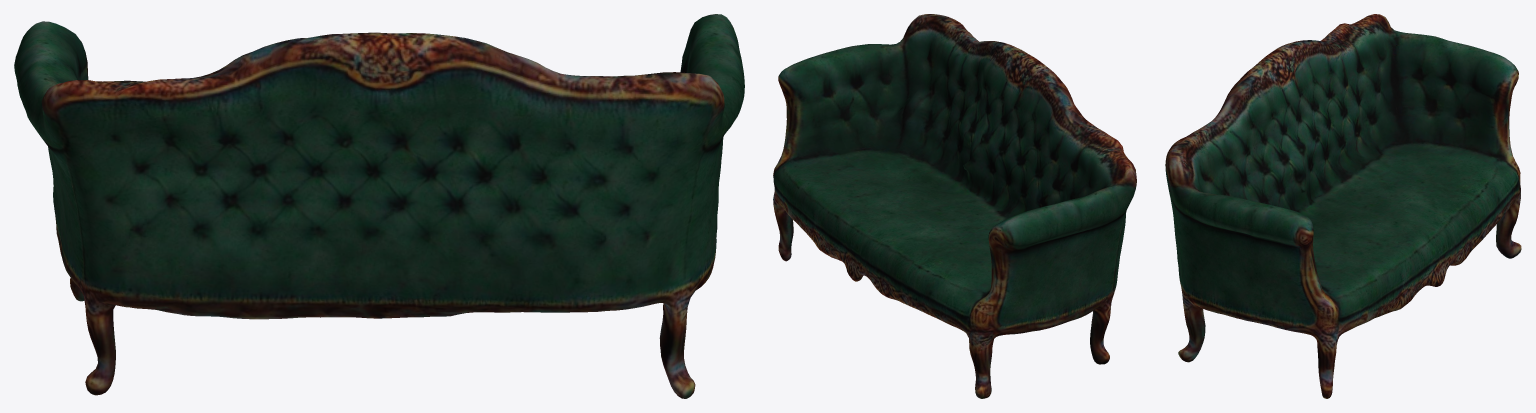
The model's file is luxury-sofa.glb.
3 views of the same model, side by side, from view 1: azimuth 30°, elevation 25°; view 2: azimuth 150°, elevation 25°; view 3: azimuth 270°, elevation 25° (orthographic). The views are drawn at different scales.
Parts seen in each view (by area): view 1: Object_4; view 2: Object_4; view 3: Object_4.
Part boxes in pixels (left/top/right/bottom): Object_4: left=14, top=14, right=744, bottom=398; Object_4: left=773, top=14, right=1136, bottom=398; Object_4: left=1165, top=14, right=1521, bottom=398.
Bounding box in the file's own units: 0.9992 × 0.5708 × 0.7782.
1 material, 1 textured.
